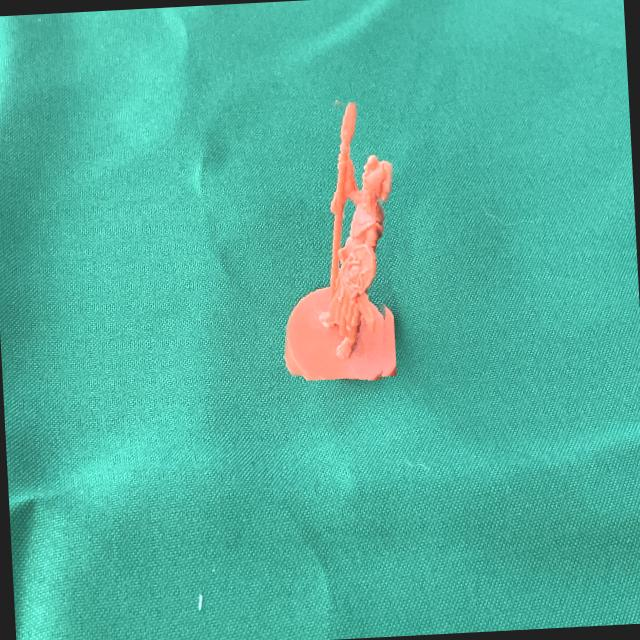amon_follower: (284, 102, 393, 380)
